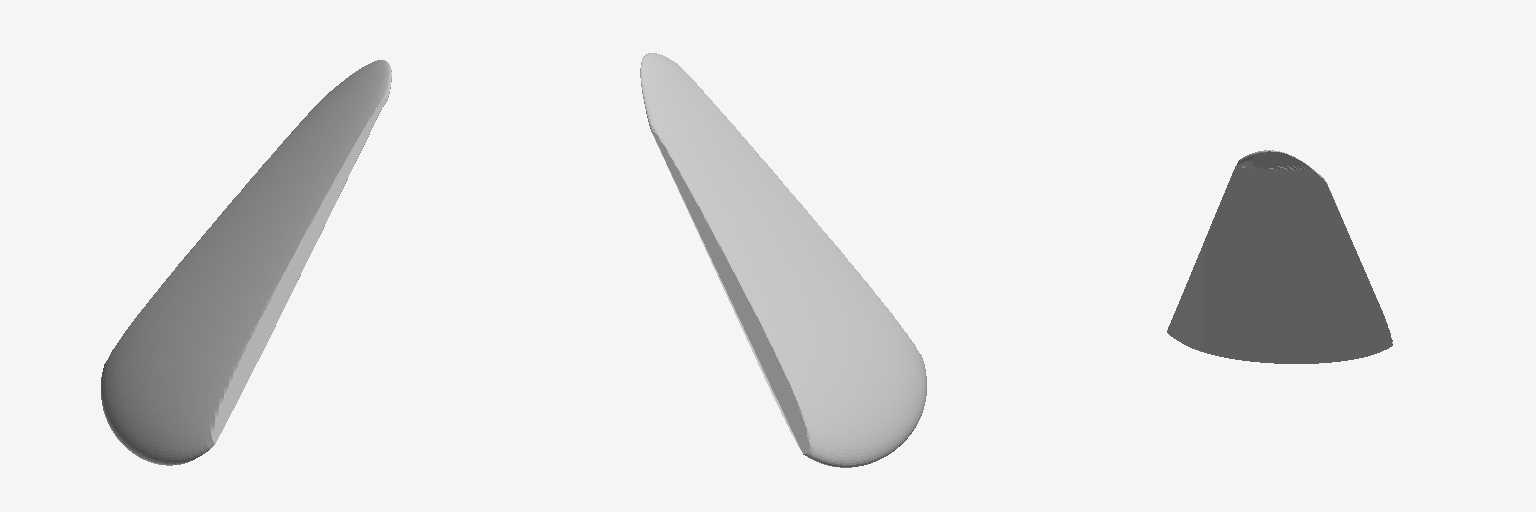
File: SubTool-1-8090894.OBJ
3 views of the same model, side by side, from view 1: azimuth 30°, elevation 25°; view 2: azimuth 150°, elevation 25°; view 3: azimuth 270°, elevation 25° (orthographic).
Parts seen in each view (by area): view 1: Group21714; view 2: Group21714; view 3: Group21714.
Part boxes in pixels (x1,y1,x2,y2): Group21714: (101, 60, 391, 465); Group21714: (640, 53, 926, 467); Group21714: (1167, 150, 1392, 363).
Bounding box in the file's own units: 0.9473 × 1.19 × 0.7319.